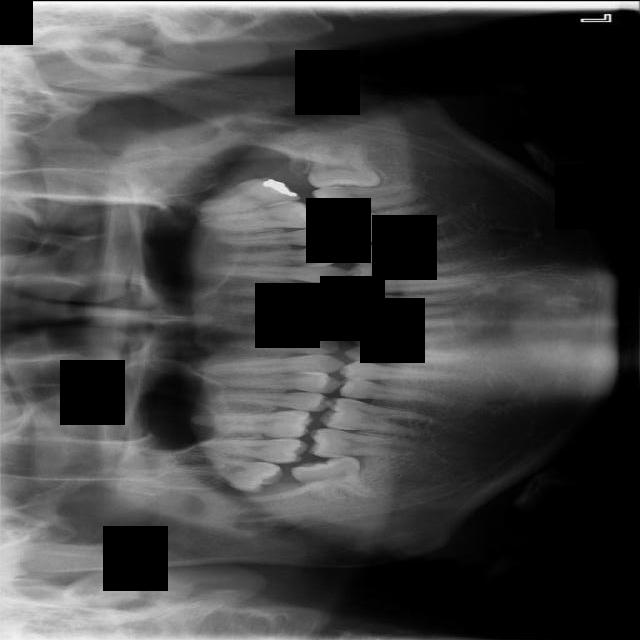3M ESPE Implant: (148, 438, 284, 497)
52: (242, 177, 301, 206)
73: (609, 11, 617, 17)
BioHorizons Implant: (190, 168, 301, 222)
Biomet 3i Implant: (307, 141, 380, 187)
Blue Sky Bio Implant: (312, 179, 422, 216)
Caries: (197, 436, 308, 464)
Implant: (309, 427, 414, 456)
Keystone Dental Implant: (290, 450, 379, 509)
